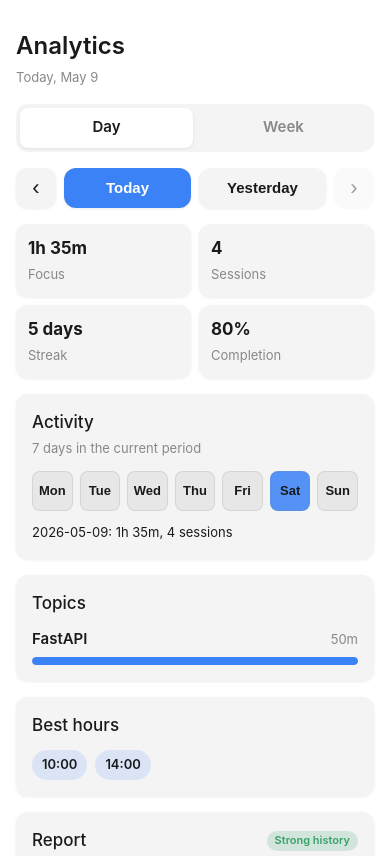
Test: AnalyticsPage › switches to weekly charts, heatmap, topics, hours and summary
Click the tab "Week" at coordinates (284, 128), box top-left (197, 108), bottom-right (370, 148)
(page scrolled)
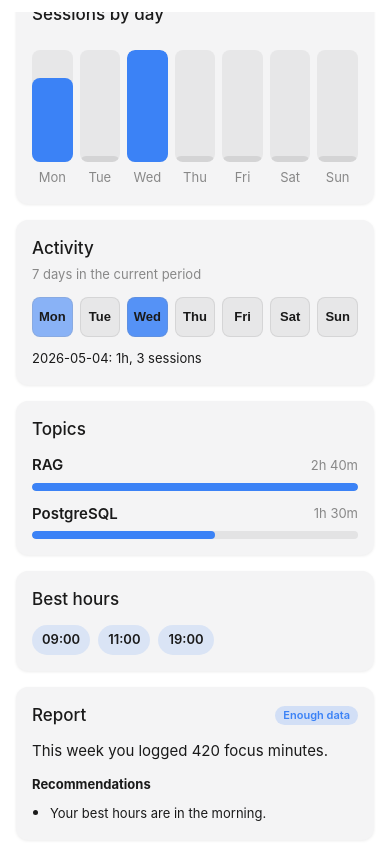
expect the text "Sessions by day" is shown: met, box top-left (32, 12), bottom-right (164, 24)
expect the text "RAG" is shown: met, box top-left (32, 454), bottom-right (63, 477)
expect the text "09:00" is shown: met, box top-left (32, 625), bottom-right (90, 655)
